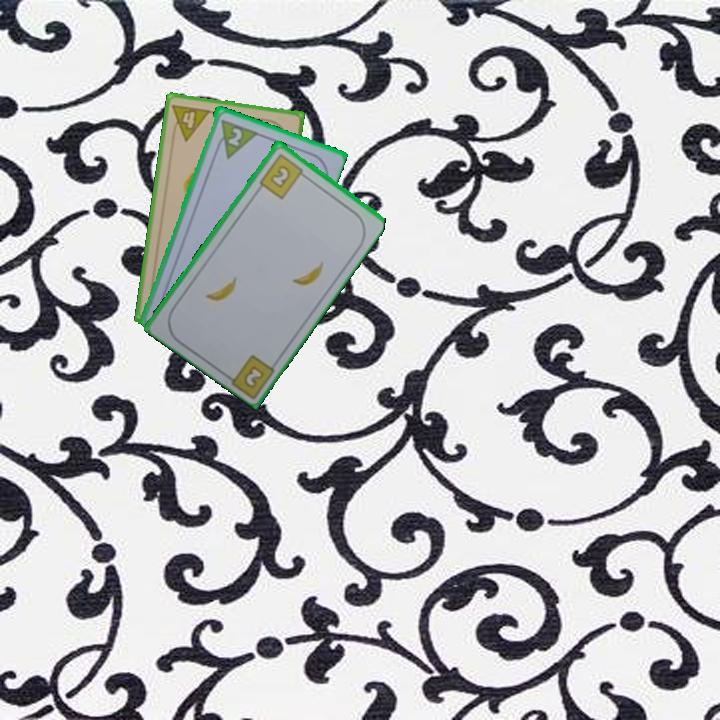2b: (256, 150, 310, 201), (242, 364, 265, 389)
2p: (210, 115, 259, 161)
4p: (168, 100, 213, 144)
